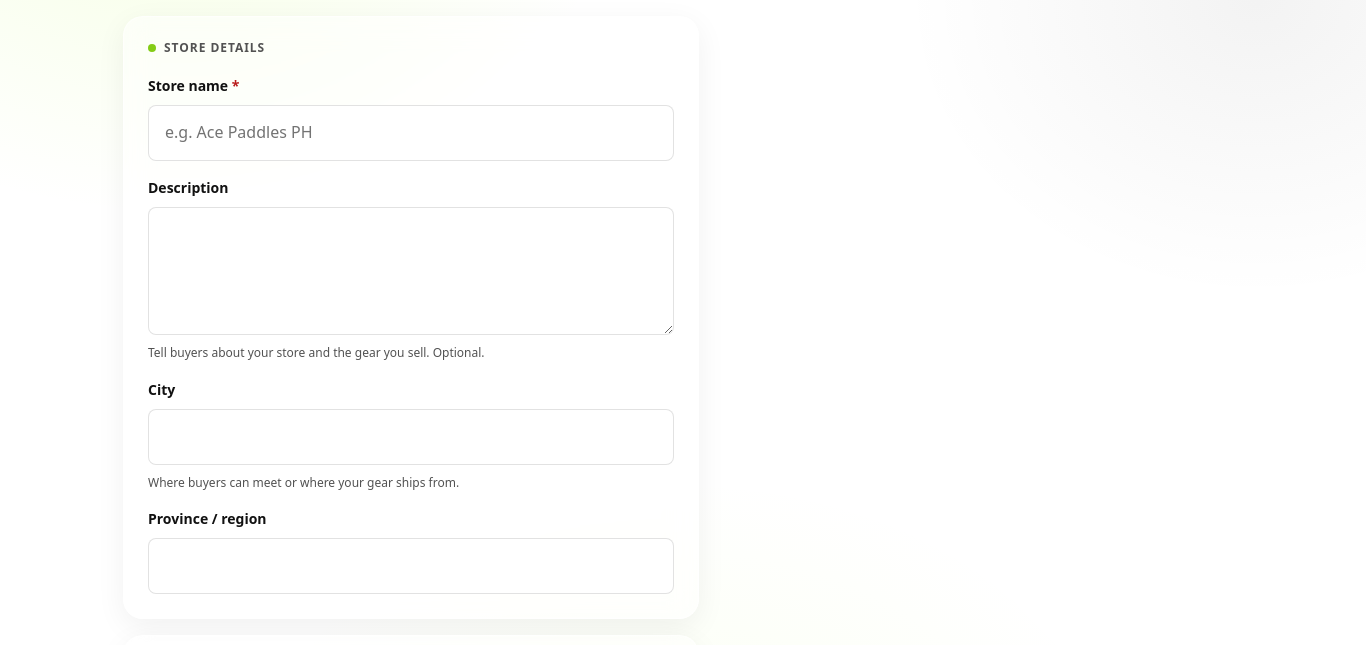
it: SellerOnboardingPage › shows a friendly error when submission fails
The width and height of the screenshot is (1366, 645).
Type "Ace Paddles PH" into the field labelled "Store name *". click: {"x": 411, "y": 133}
box: [148,105,674,161]
(page scrolled)
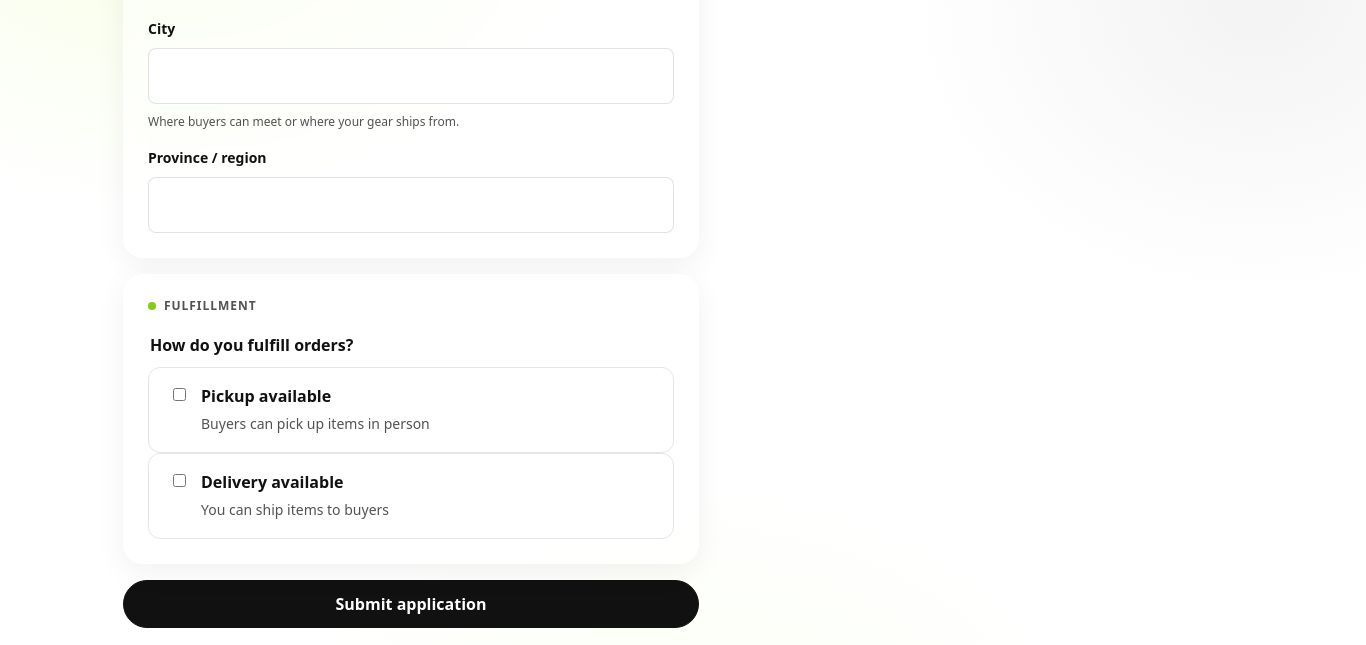
Click the button "Submit application". click: {"x": 411, "y": 604}
box: [123,580,699,628]
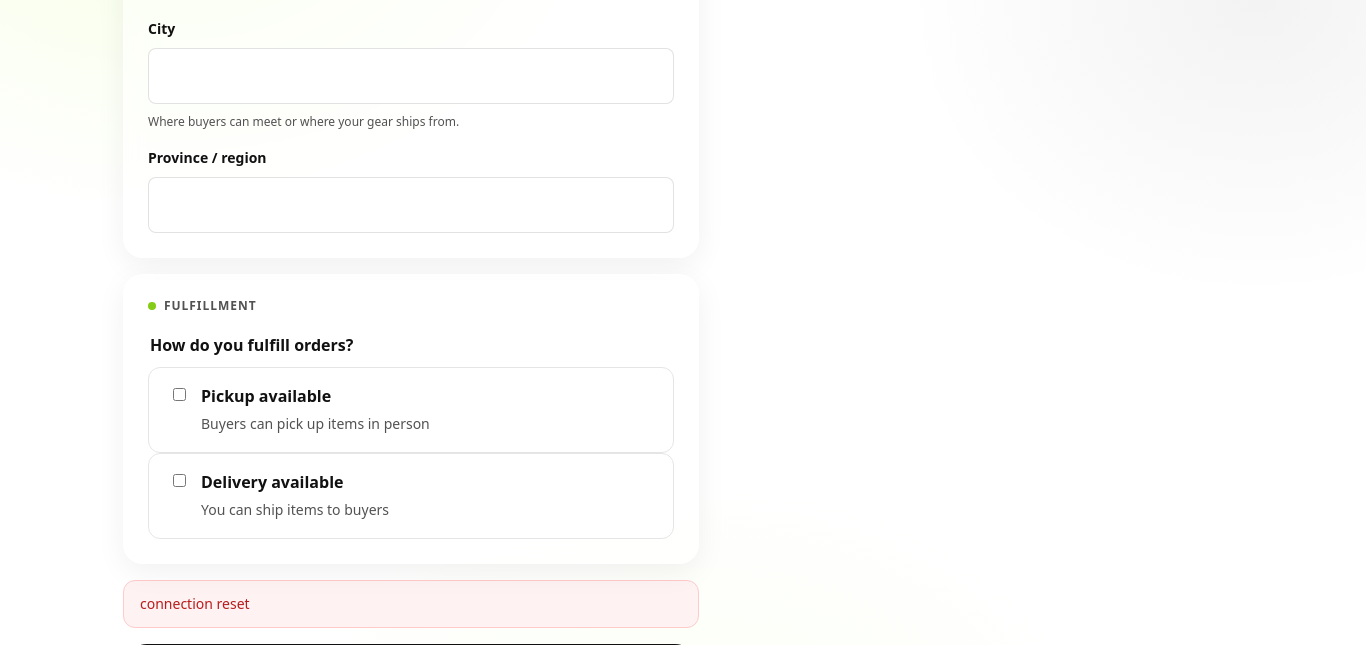
Now the text "connection reset" is shown, box [123,580,699,628]
